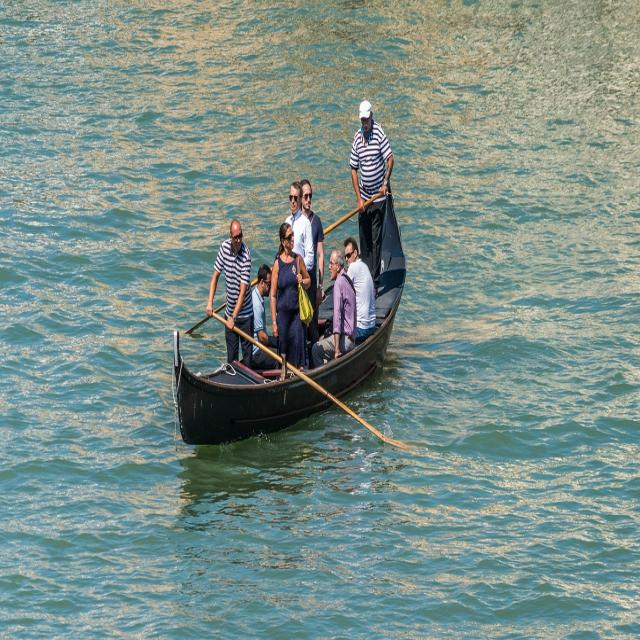boat: (149, 164, 426, 474)
